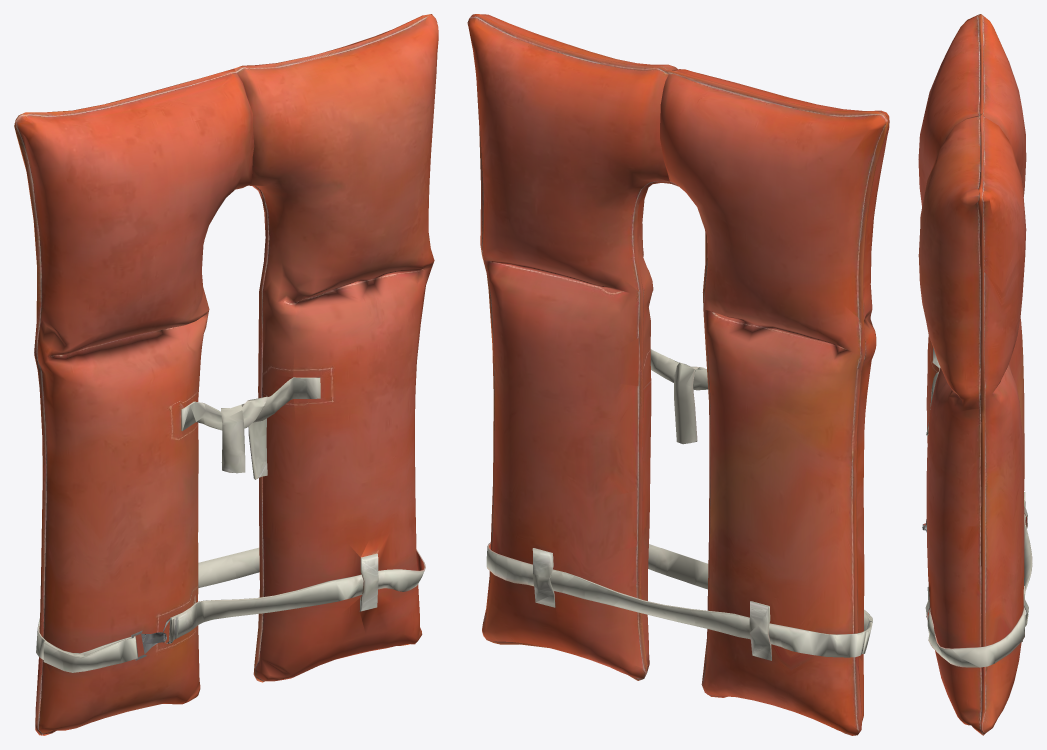
Rendered from life-jacket.glb.
3 views of the same model, side by side, from view 1: azimuth 30°, elevation 25°; view 2: azimuth 150°, elevation 25°; view 3: azimuth 270°, elevation 25° (orthographic). The views are drawn at different scales.
Visible parts, largest first — view 1: life_jacket; view 2: life_jacket; view 3: life_jacket.
Part boxes in pixels (bbox=[...]): life_jacket: bbox=[14, 14, 438, 735]; life_jacket: bbox=[467, 14, 889, 735]; life_jacket: bbox=[918, 14, 1032, 735].
Size of the model in its own units: 0.6954 by 0.9921 by 0.1841.
1 material, 1 textured.
